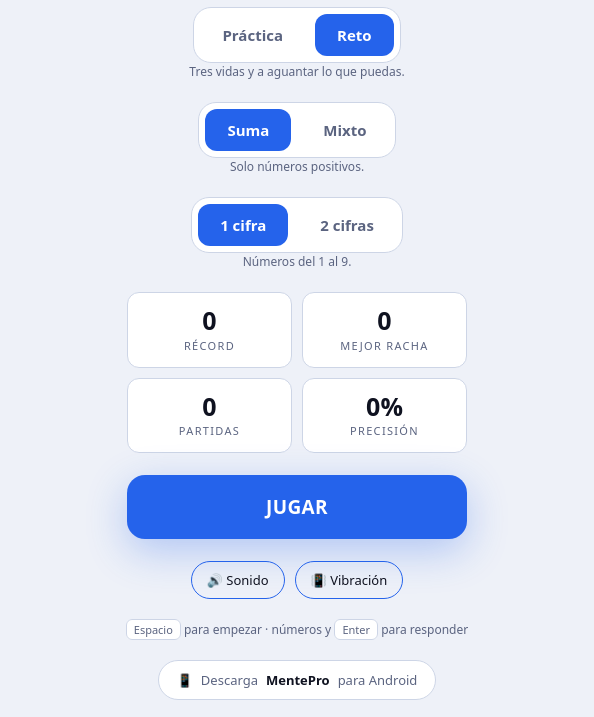
Scenario: MenteRush end to end › una respuesta equivocada sí exige confirmar
The width and height of the screenshot is (594, 717).
(page scrolled)
Click the button "JUGAR": {"x": 297, "y": 507} x1=127 y1=475 x2=467 y2=539
Wait 7200 ms
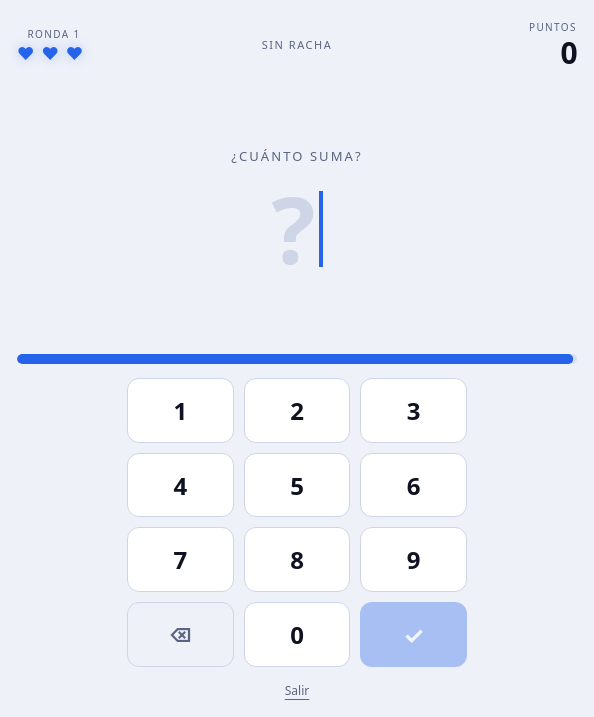
Press 1
Press 0
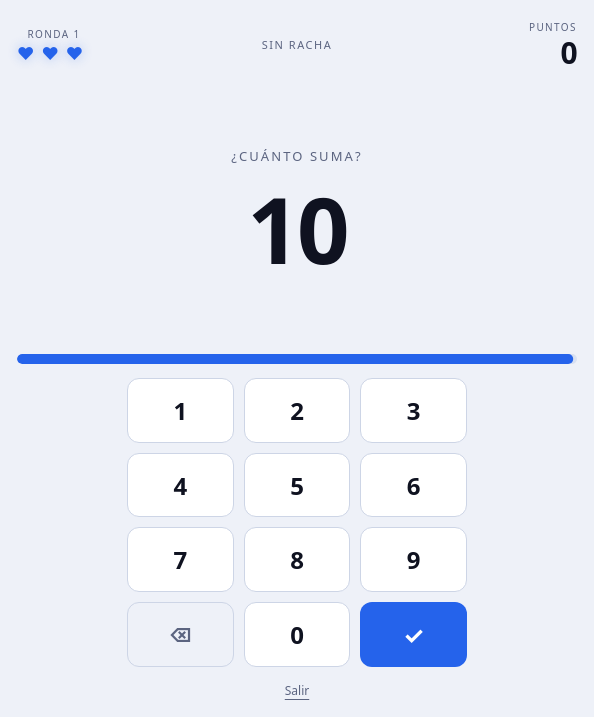
Expected: the text "¿Cuánto suma?" is shown, x1=231 y1=147 x2=363 y2=165
Press Enter
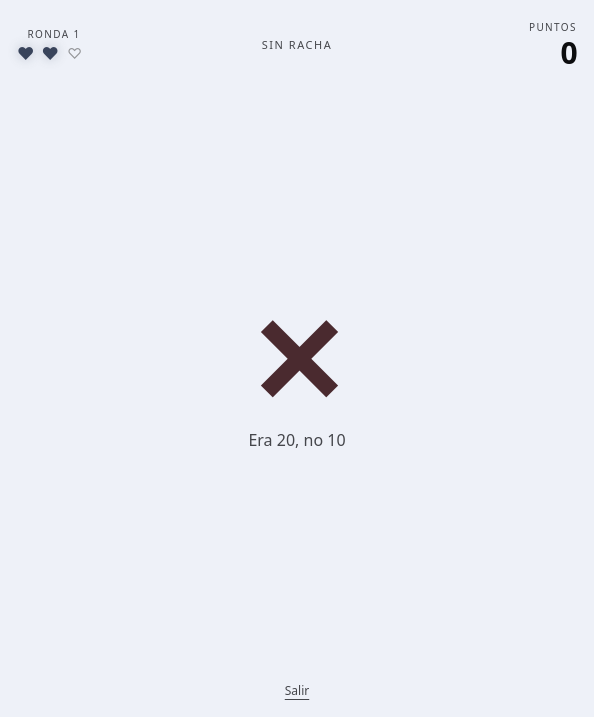
Expected: the text "✕" is shown, x1=247 y1=298 x2=347 y2=418
